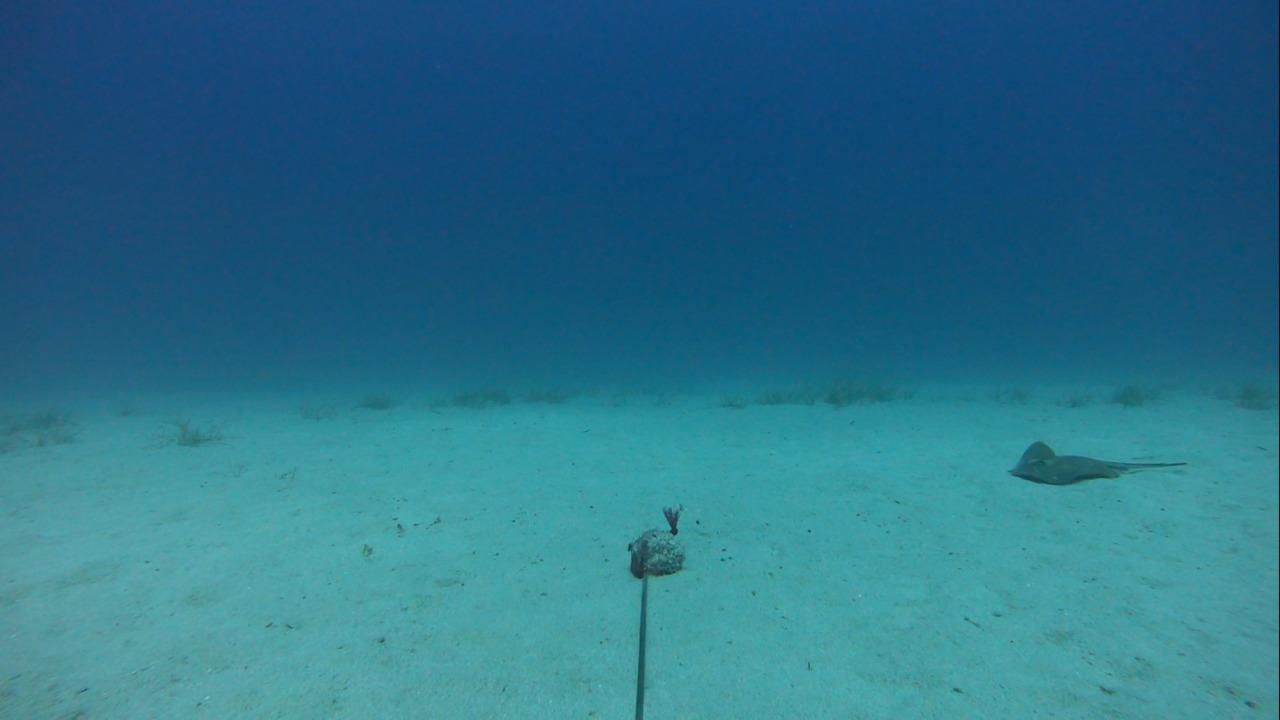myliobatis: (1003, 436, 1189, 487)
